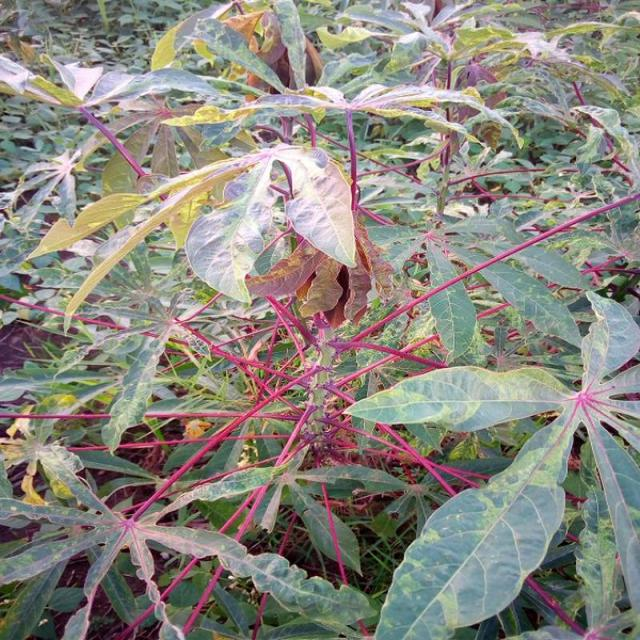cassava leaf: (0, 0, 638, 638), (373, 415, 571, 638), (183, 142, 356, 308)
